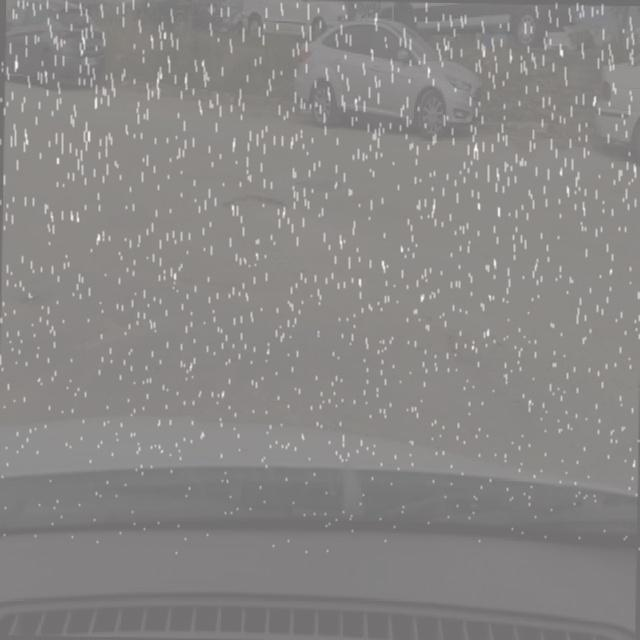Pothole: (220, 185, 294, 228)
